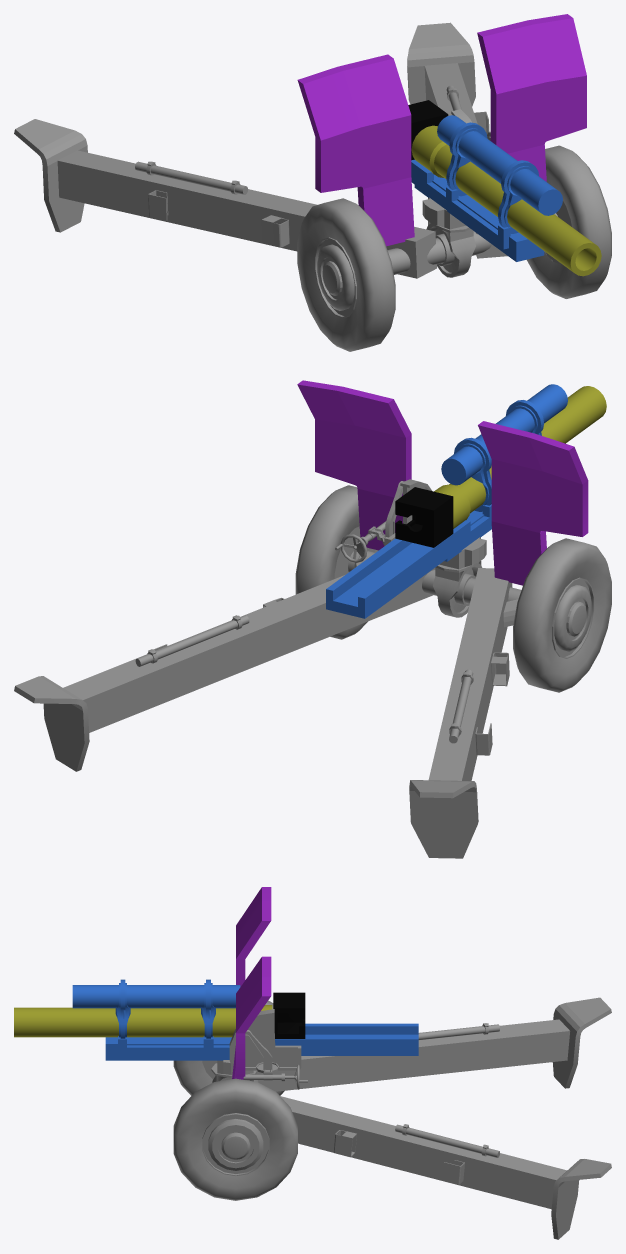
3 views of the same model, one above another, from view 1: azimuth 30°, elevation 25°; view 2: azimuth 150°, elevation 25°; view 3: azimuth 270°, elevation 25° (orthographic). The views are drawn at different scales.
Parts seen in each view (by area): view 1: sheild001, trails, RightWheel, carrage, barrel, Left wheel, base; view 2: trails, sheild001, RightWheel, carrage, barrel, Left wheel, base, elevation controler; view 3: trails, Left wheel, carrage, barrel, sheild001, elevation controler, RightWheel.
Part boxes in pixels (x1,y1,x2,y2): sheild001: (297,14,586,246); trails: (14,22,507,278); RightWheel: (297,198,395,351); carrage: (411,115,562,261); barrel: (408,100,601,276); Left wheel: (527,145,611,298); base: (387,197,557,277); trails: (14,568,512,858); sheild001: (297,380,588,585); RightWheel: (513,538,611,692); carrage: (326,384,567,618); barrel: (395,386,606,547); Left wheel: (295,485,378,639); base: (348,537,521,627); elevation controler: (335,479,432,562); trails: (256,997,611,1239); Left wheel: (173,1078,297,1200); carrage: (72,979,418,1060); barrel: (14,992,305,1038); sheild001: (232,887,271,1079); elevation controler: (229,1009,307,1089); RightWheel: (173,1000,284,1095).
Bounding box in the file's own units: 78.45 × 45.71 × 112.
